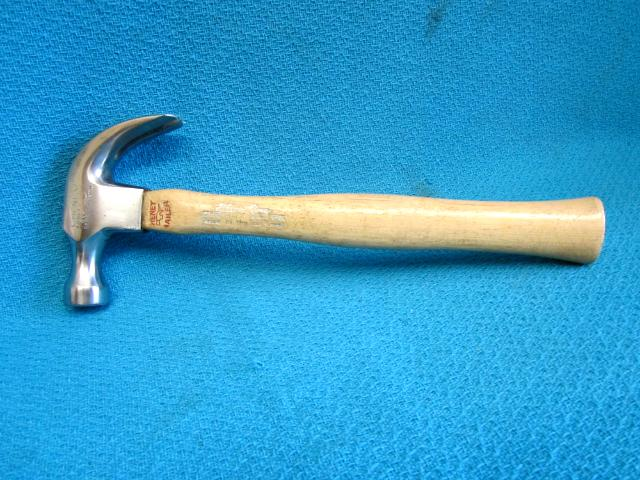hammer: (56, 106, 612, 316)
